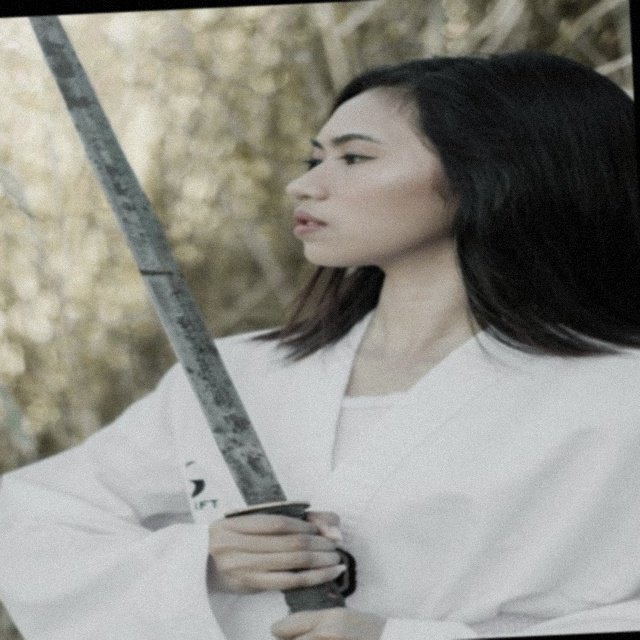Sharp-Object: (0, 2, 373, 640)
